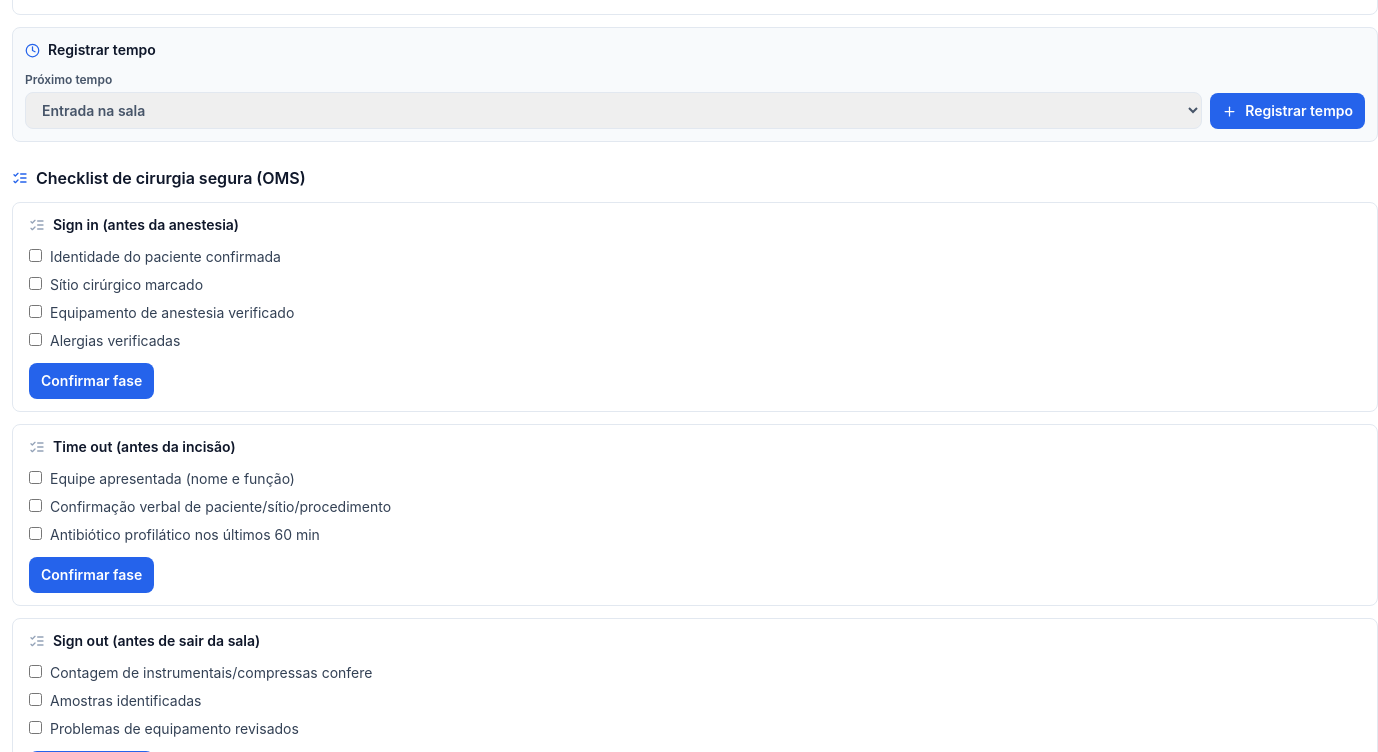
it: SurgeryIntraopPanel › confirms a checklist phase and shows it done after reload
(page scrolled)
Click the button "Confirmar fase" below "Alergias verificadas" at coordinates (92, 381), box left=29, top=363, right=154, bottom=399
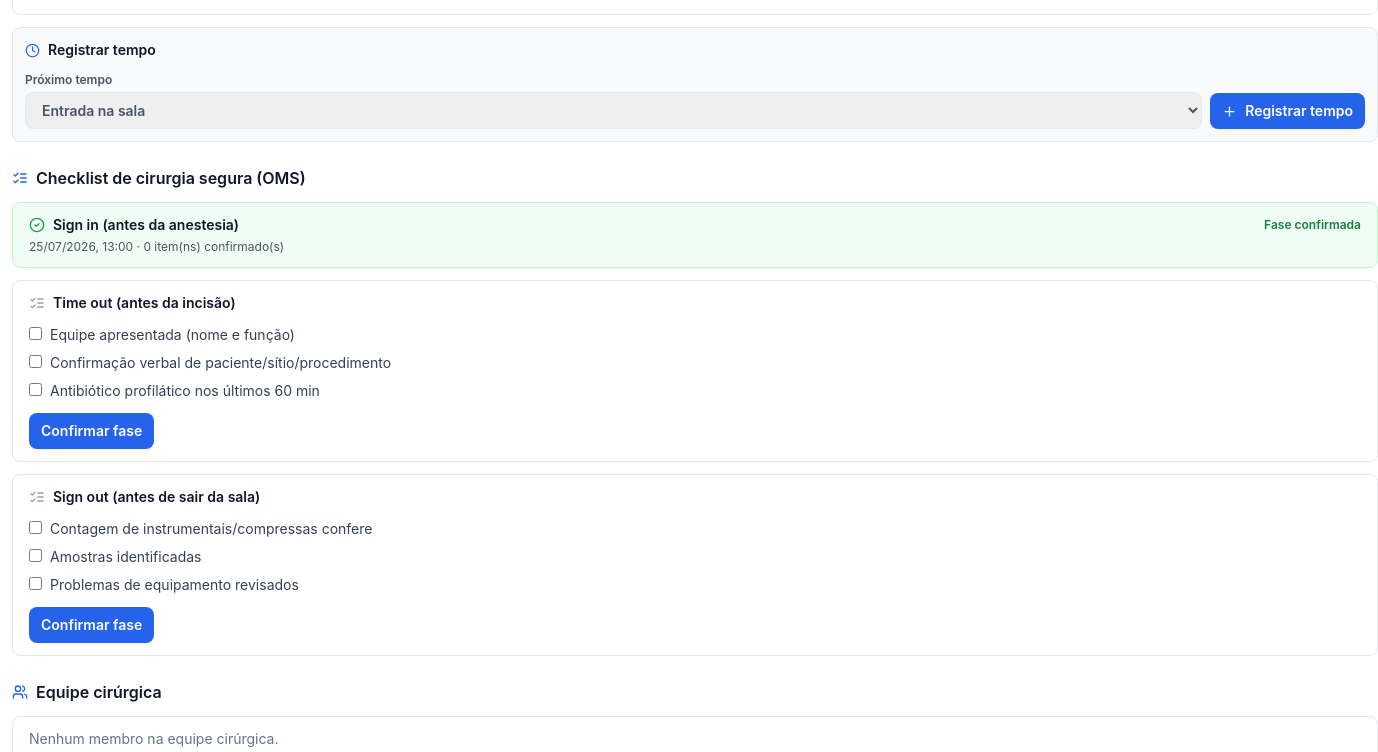
Result: the text "Fase confirmada" is shown at left=1264, top=217, right=1361, bottom=233
